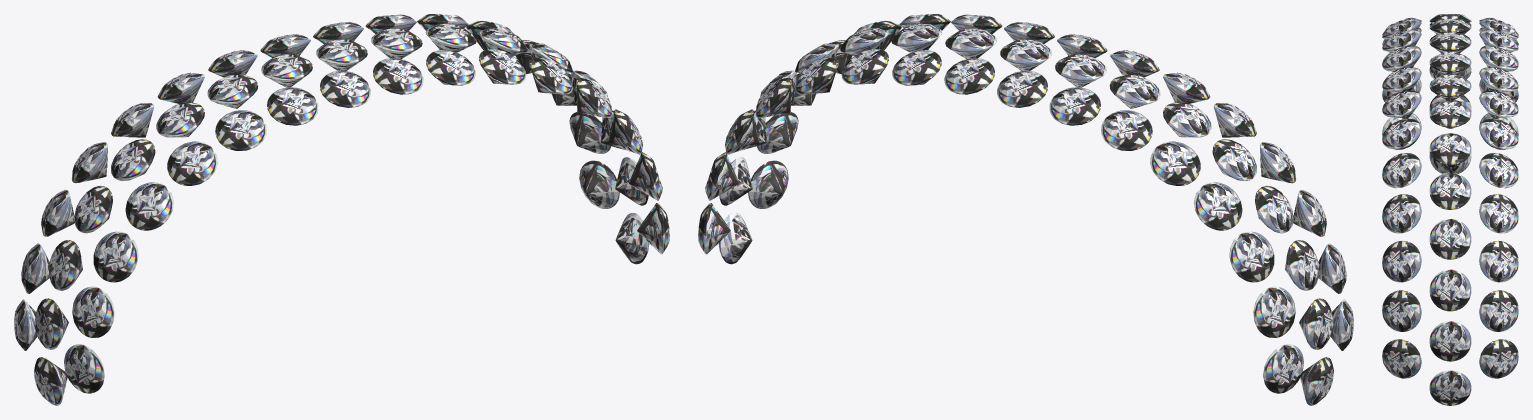
3 views of the same model, side by side, from view 1: azimuth 30°, elevation 25°; view 2: azimuth 150°, elevation 25°; view 3: azimuth 270°, elevation 25° (orthographic). The views are drawn at different scales.
Parts seen in each view (by area): view 1: Done; view 2: Done; view 3: Done.
Boxes of the visible parts, left/top/right/bottom form: Done: left=14, top=14, right=669, bottom=405; Done: left=698, top=14, right=1353, bottom=405; Done: left=1382, top=14, right=1518, bottom=405.
Bounding box in the file's own units: 17.59 × 4.25 × 8.01.
Materials: 1 (1 with a texture image).
